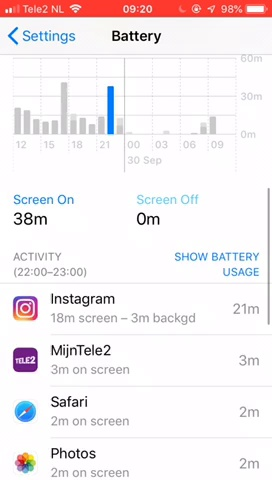activity: (10, 245, 125, 281)
app: (10, 291, 266, 328), (11, 340, 267, 377), (8, 391, 264, 428), (11, 441, 267, 478)
